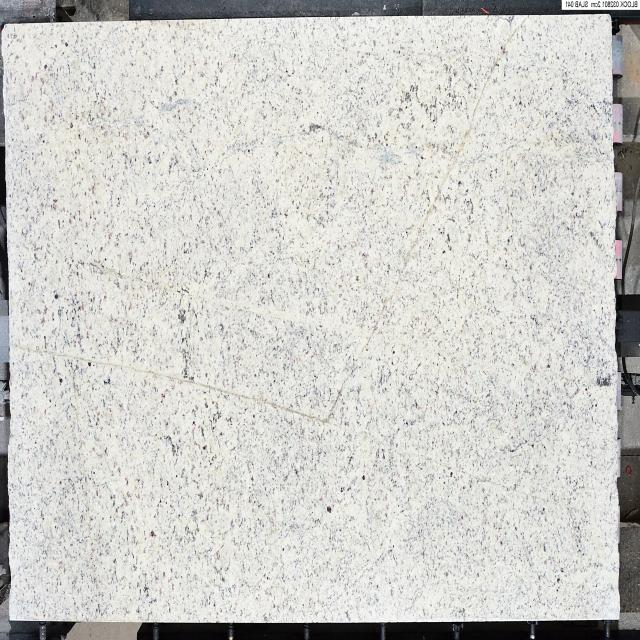chapa: (2, 15, 620, 624)
